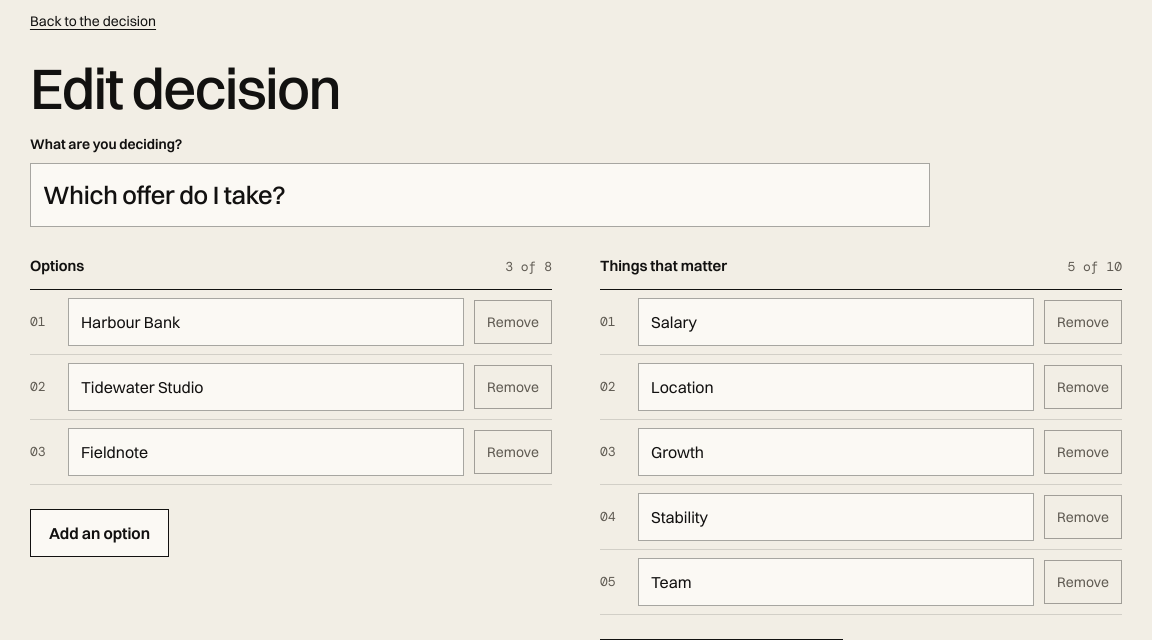
it: edit a matrix decision › prefills, edits names and title, and saves in place
The width and height of the screenshot is (1152, 640).
Expected: the heading "Edit decision" is shown, [30, 53, 340, 123]
Step 1. Replace the text in the field named "Decision title" with "Which job?" → point(480, 195), box [30, 163, 930, 227]
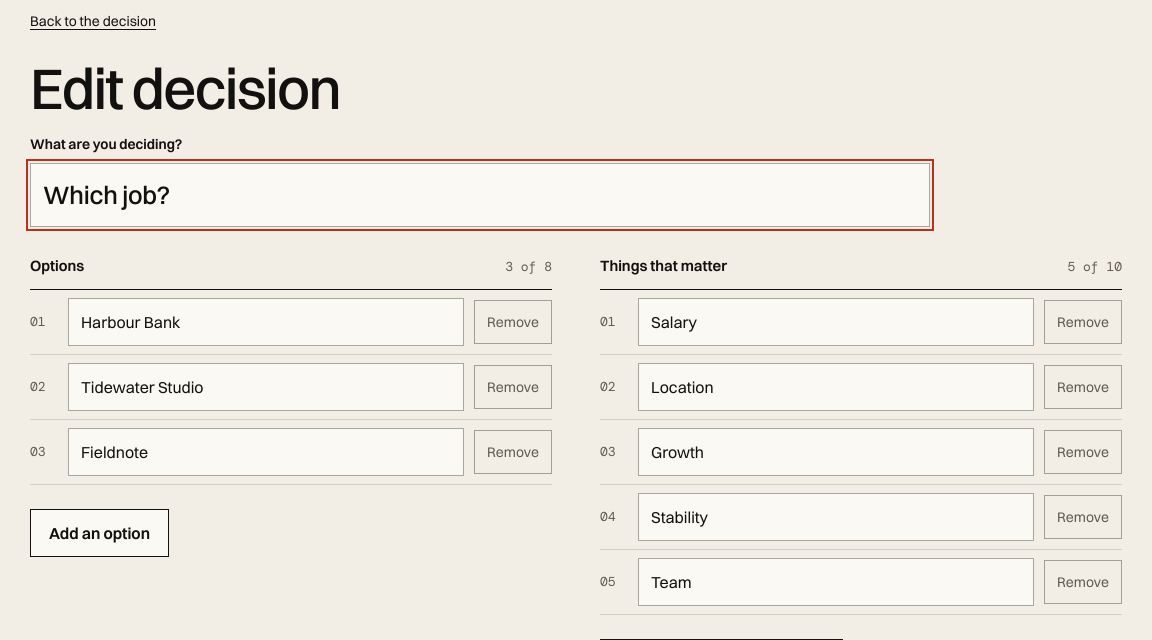
Step 2. Click the button with aria-label "Remove what matters 5" → point(1083, 582), box [1044, 560, 1122, 604]
(page scrolled)
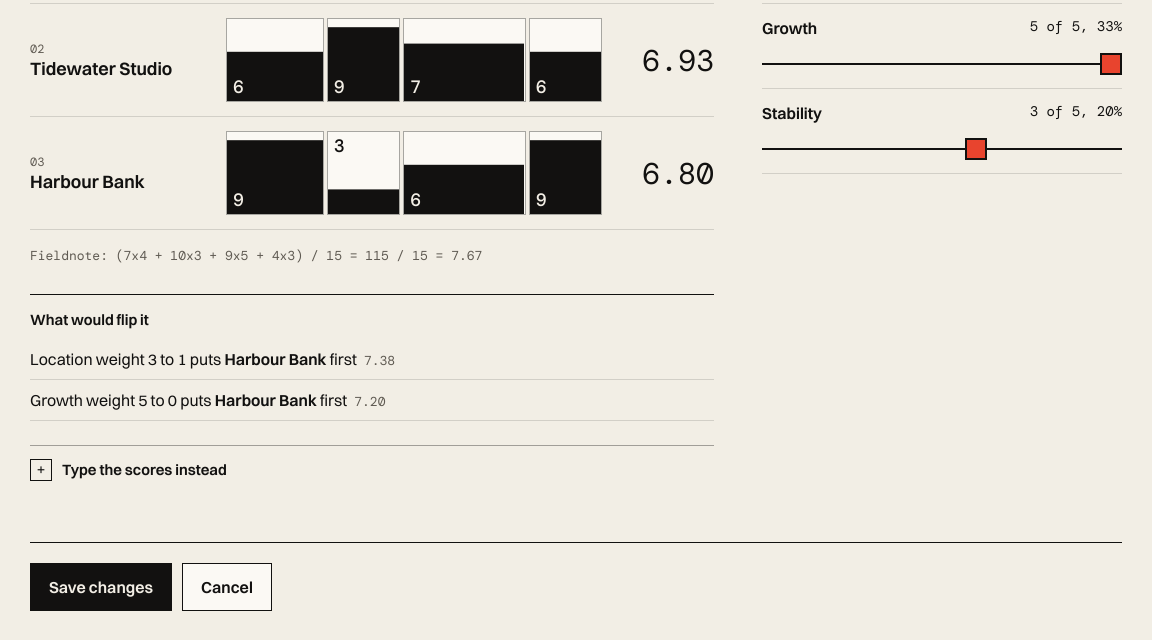
Step 3. Click the button "Save changes" → point(101, 587), box [30, 563, 172, 611]
(page scrolled)
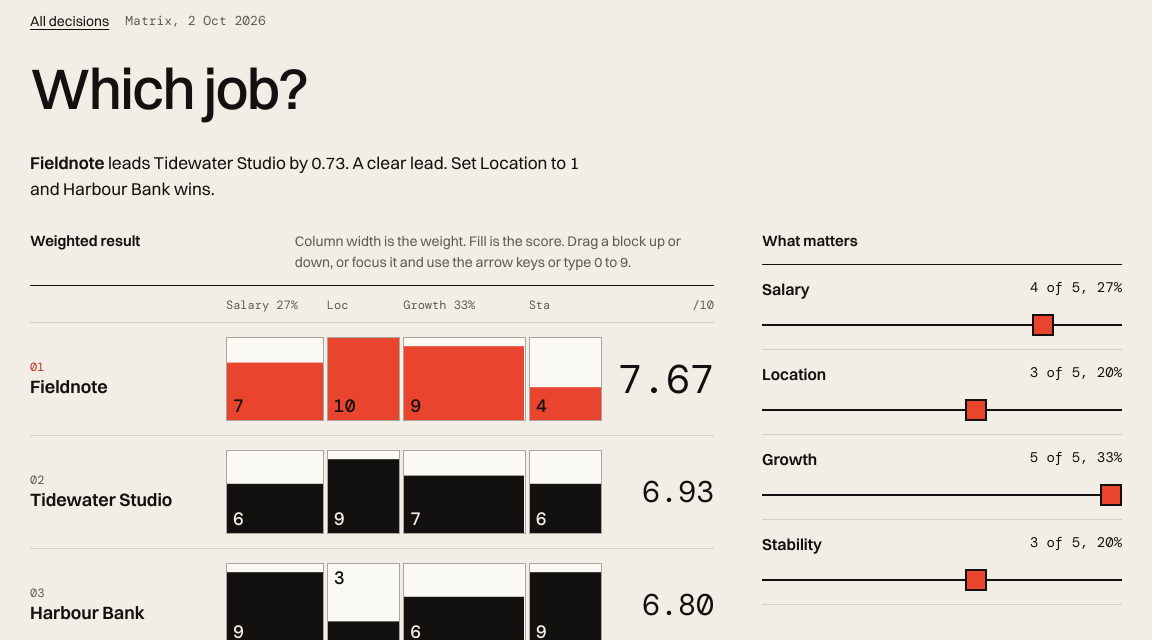
Expected: the heading "Which job?" is shown, [30, 53, 307, 123]
